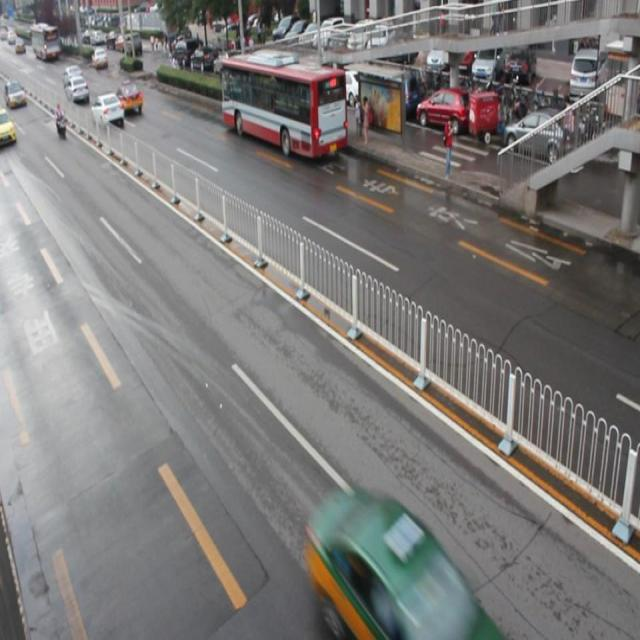car: (304, 489, 504, 640), (90, 92, 126, 130)
van: (221, 56, 346, 158)
